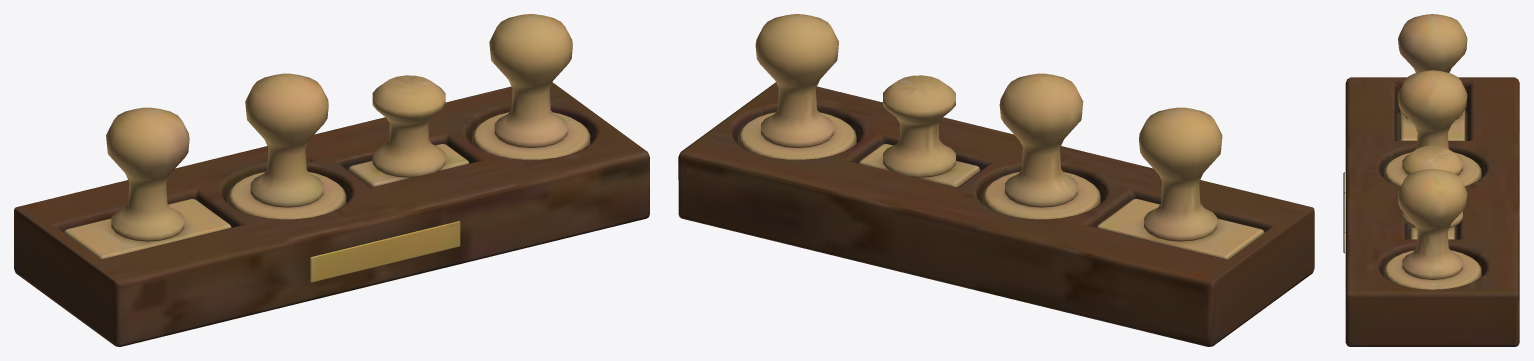
Rendered from stamp-rack.glb.
3 renders of one model, left to right at view 1: azimuth 30°, elevation 25°; view 2: azimuth 150°, elevation 25°; view 3: azimuth 270°, elevation 25°, orthographic. The views are drawn at different scales.
Visible parts, largest first — view 1: rack; view 2: rack; view 3: rack.
Part boxes in pixels (bbox=[...]): rack: bbox=[14, 14, 649, 346]; rack: bbox=[678, 14, 1314, 346]; rack: bbox=[1343, 14, 1519, 346].
Bounding box in the file's own units: 0.25 × 0.0803 × 0.0862.
Materials: 1 (1 with a texture image).
